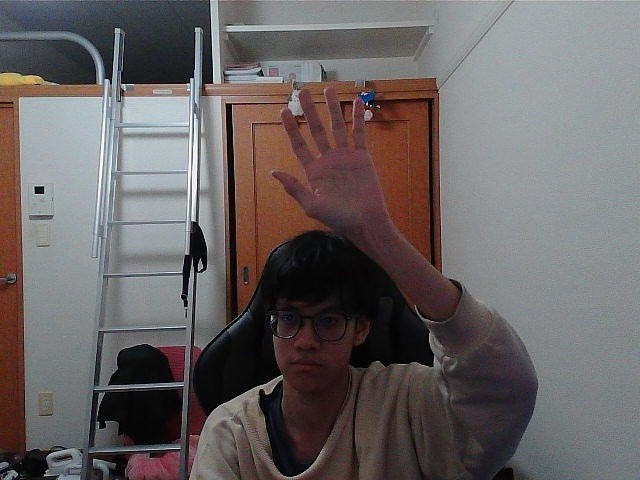open_palm: (279, 93, 361, 220)
